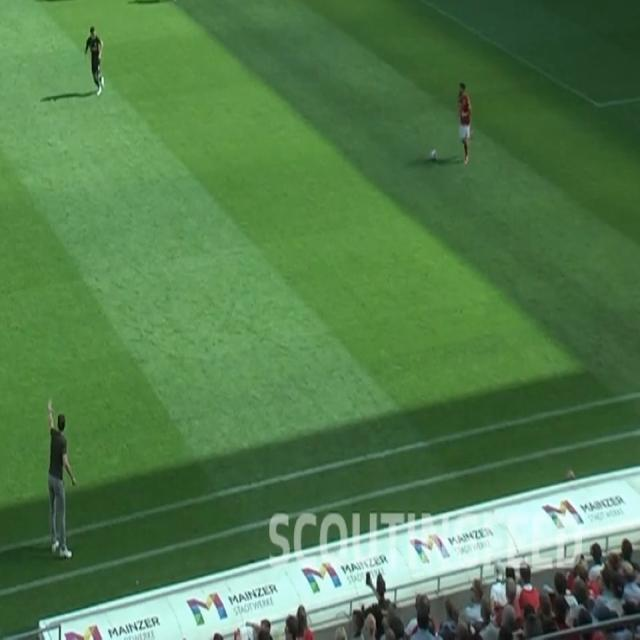ball: (429, 146, 438, 162)
